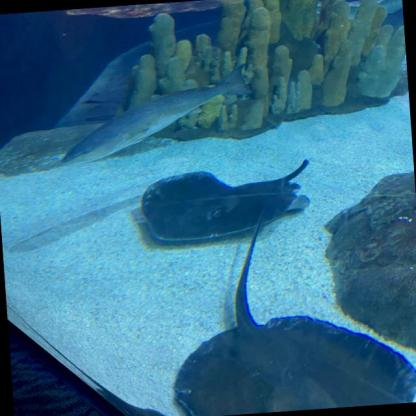fish: (49, 61, 262, 169)
stingray: (168, 306, 415, 416), (138, 162, 303, 244)
